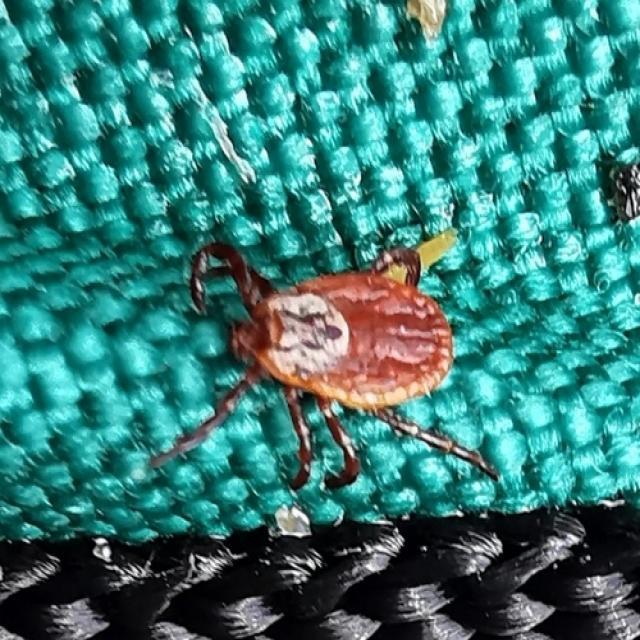Dermacentor Reticulatus-F: (150, 242, 499, 490)
